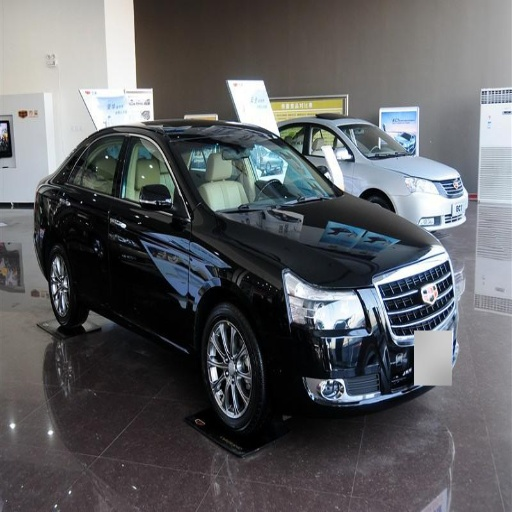front_bumper: (263, 263, 459, 411)
front_right_door: (110, 134, 189, 343)
front_right_light: (283, 270, 364, 328)
